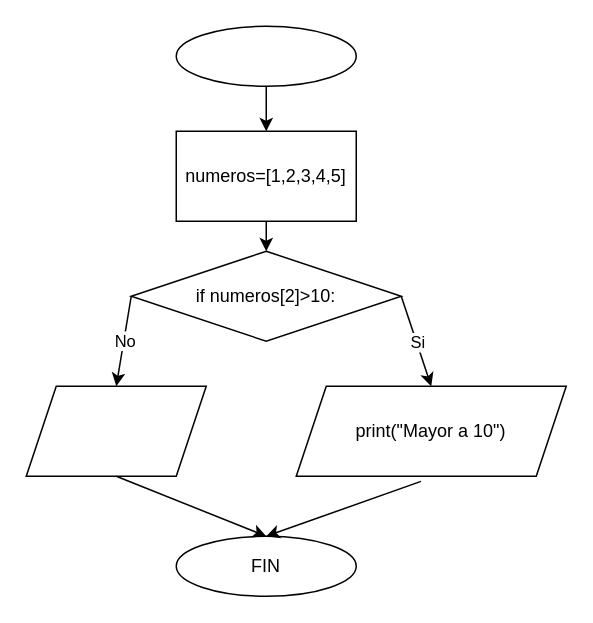
Some shapes in this 593 by 623 pixel diagram are drawn without their labels. Each missing label, with the centre of its shape:
INICIO: point 265,55
print("Menor a 10"): point 115,430
